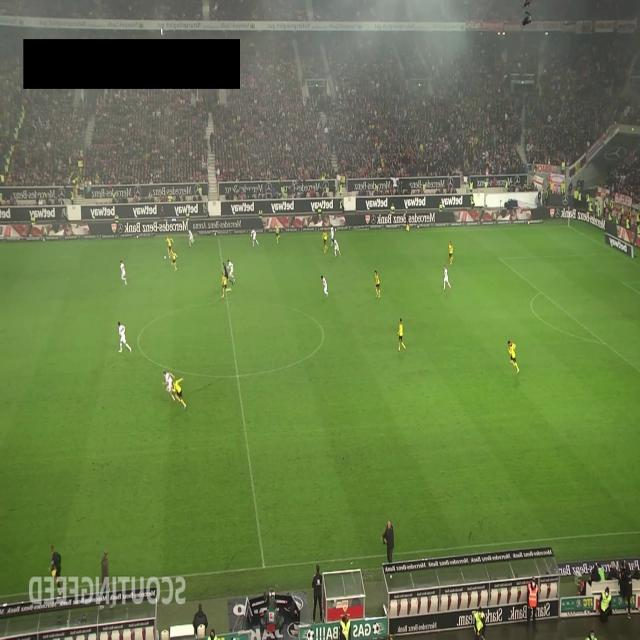ball: (164, 255, 166, 261)
player: (171, 370, 187, 410), (117, 321, 132, 354), (507, 340, 520, 373), (397, 318, 406, 352), (442, 265, 452, 291), (166, 234, 174, 260), (227, 260, 235, 285), (374, 270, 381, 298), (321, 275, 329, 298), (120, 260, 127, 285), (332, 238, 341, 257), (250, 228, 259, 247), (222, 272, 228, 299), (448, 239, 454, 265), (170, 249, 177, 271), (322, 229, 328, 253), (188, 229, 194, 248), (330, 224, 335, 244), (275, 224, 280, 243)
referee: (48, 544, 62, 606), (221, 262, 233, 286), (404, 209, 411, 233)
